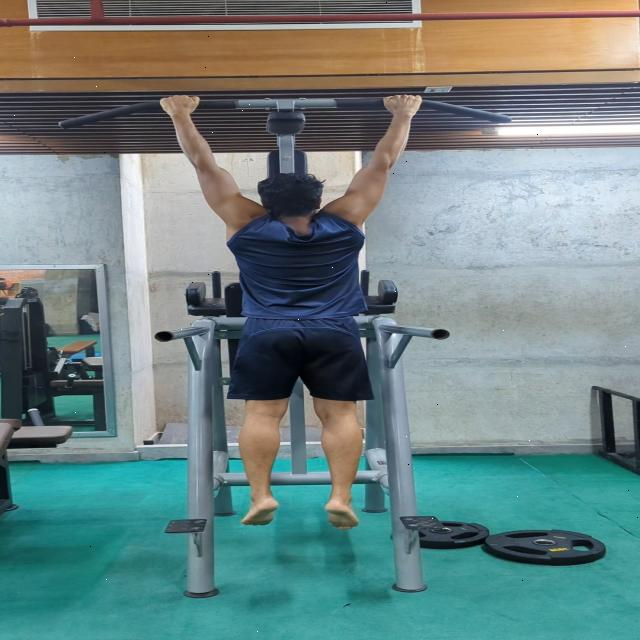Normal_PullUps: (145, 89, 450, 538)
